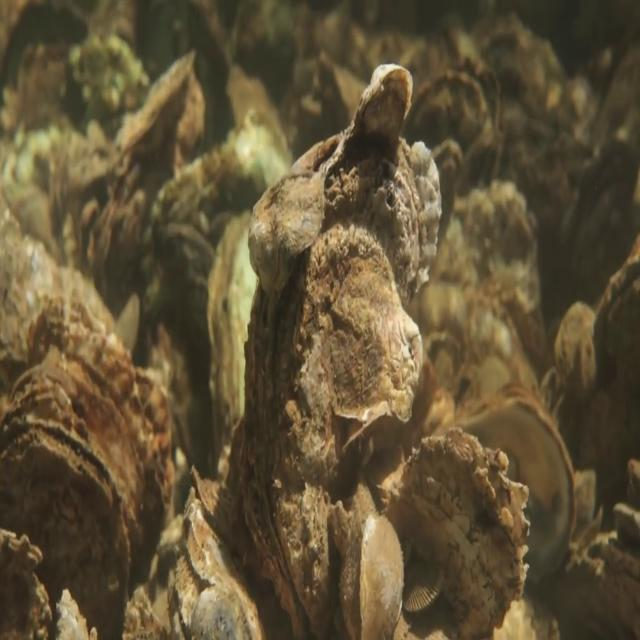Oyster-Closed: (237, 64, 443, 639), (383, 425, 533, 639), (0, 412, 132, 639), (438, 377, 578, 590), (178, 463, 293, 637), (342, 494, 401, 639), (166, 554, 206, 639)
Oyster-Indeterminate: (0, 289, 176, 600), (190, 576, 267, 639), (401, 559, 446, 618)
